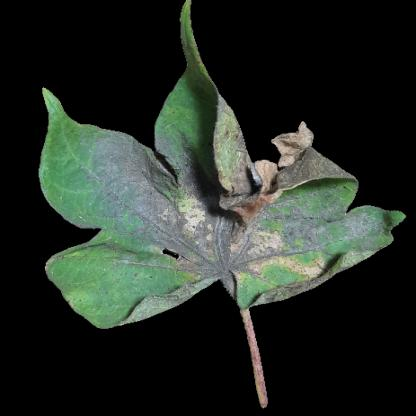sooty: (102, 150, 318, 266)
